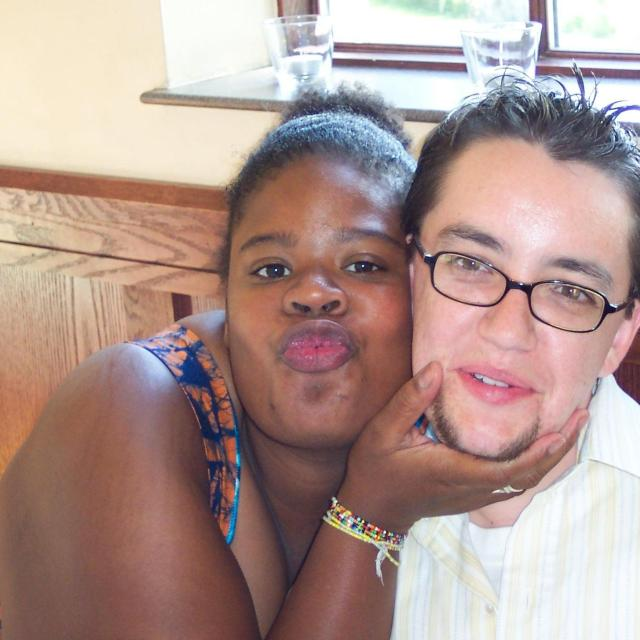no-glass: (435, 252, 604, 313), (251, 250, 394, 286)
